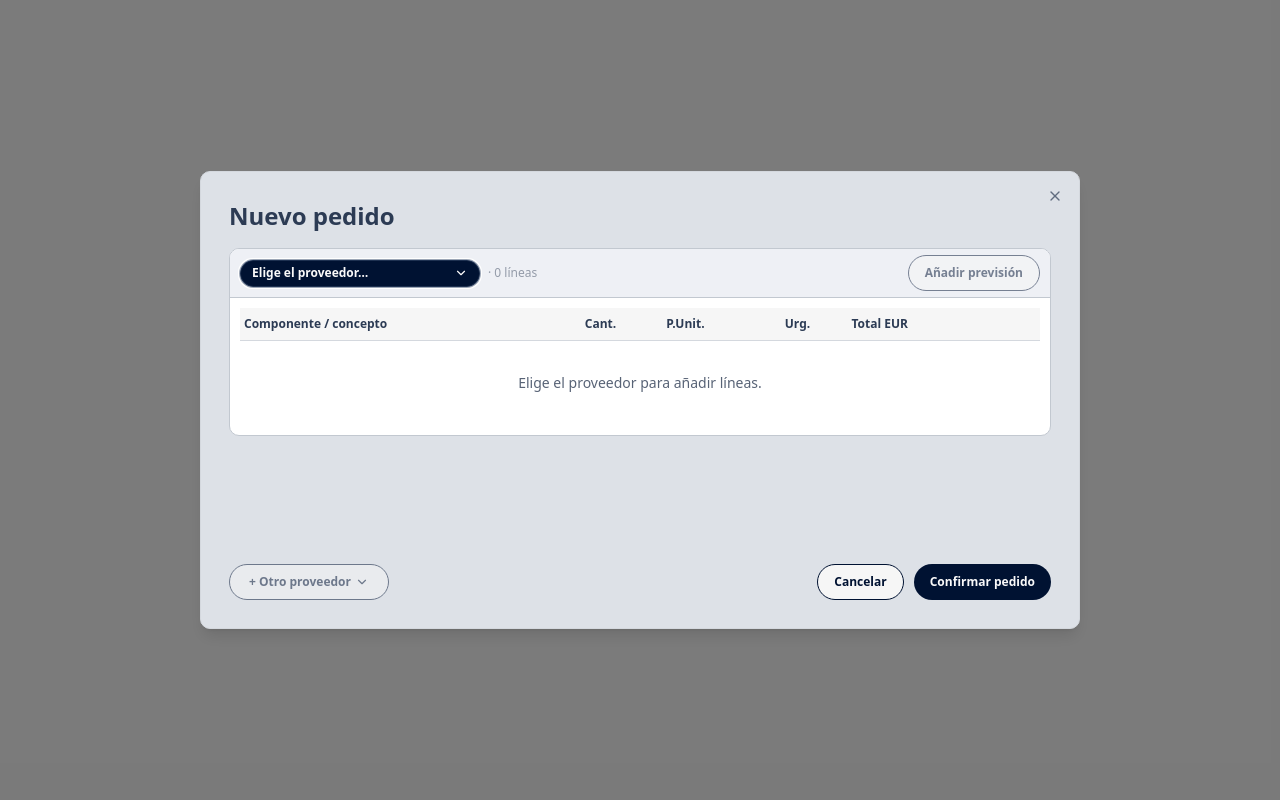
Scenario: NuevoPedidoDialog › vacío: título de 24 px y un primer recuadro con el proveedor por elegir; «+ Otro proveedor» en el pie, deshabilitado hasta elegirlo
Expected: the text "Elige el proveedor para añadir líneas." is shown, [240,340,1040,424]
Expected: the button "Añadir previsión" is disabled, [908,255,1040,291]
Step 1. Click the dropdown labelled "proveedor" → (360, 273), box [240,260,480,286]
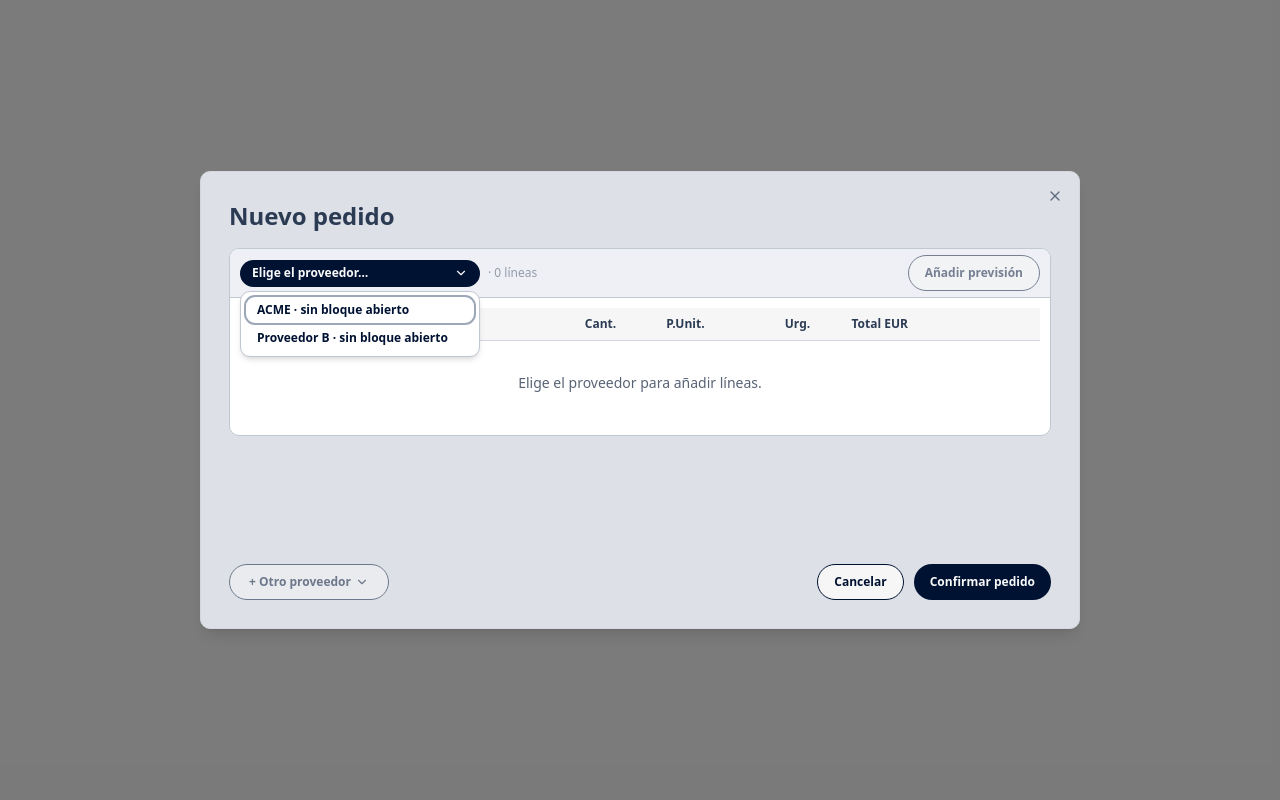
Now the button "ACME · sin bloque abierto" is shown
Now the buttons read "ACME · sin bloque abierto", "Proveedor B · sin bloque abierto", in this order
Step 2. Click the button "ACME · sin bloque abierto" → (360, 310), box [245,296,475,324]
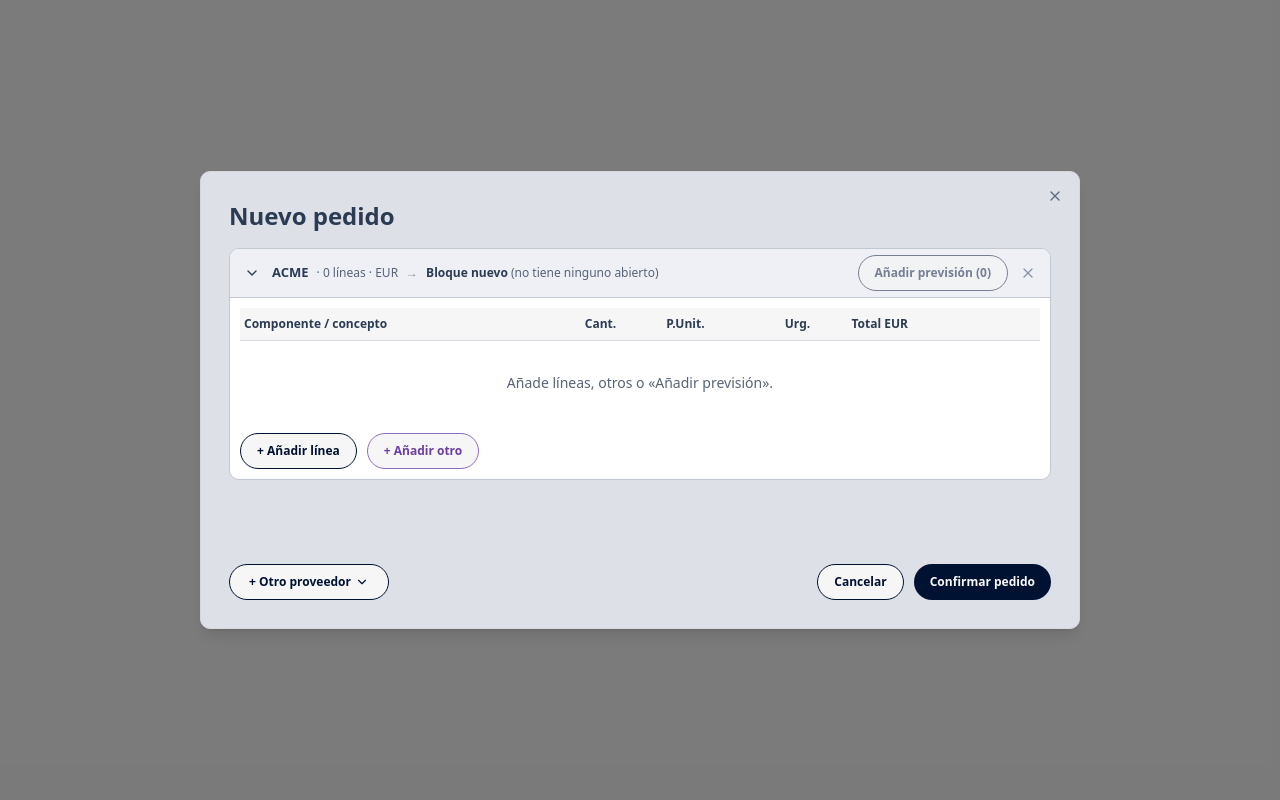
Now the text "Añade líneas, otros o «Añadir previsión»." is shown, box [240,340,1040,424]
Now the dropdown labelled "Pedido sin proveedor" is gone
Now the dropdown labelled "Otro proveedor" is enabled, box [229,564,389,600]
